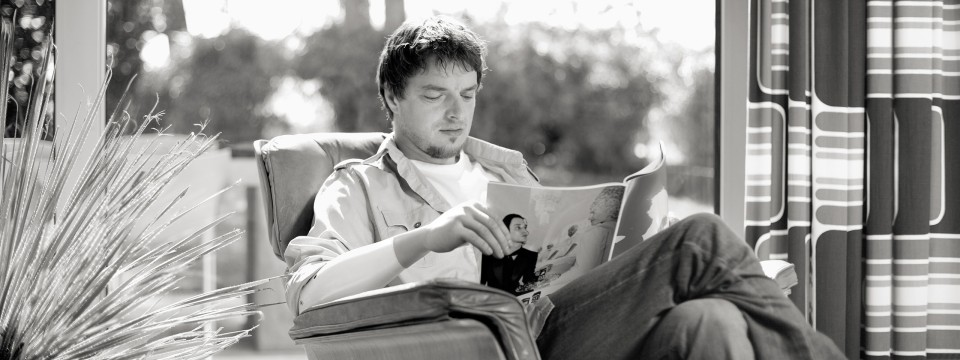finger: (468, 212, 513, 262), (463, 216, 506, 263), (473, 203, 516, 249), (449, 227, 495, 257)
